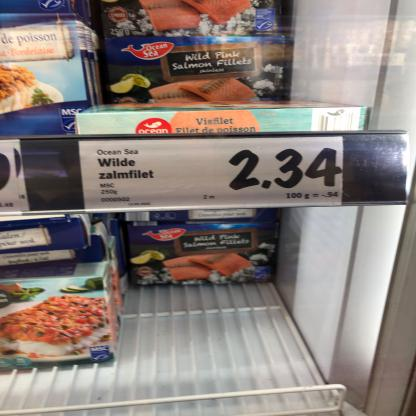prtg: (79, 138, 344, 213)
